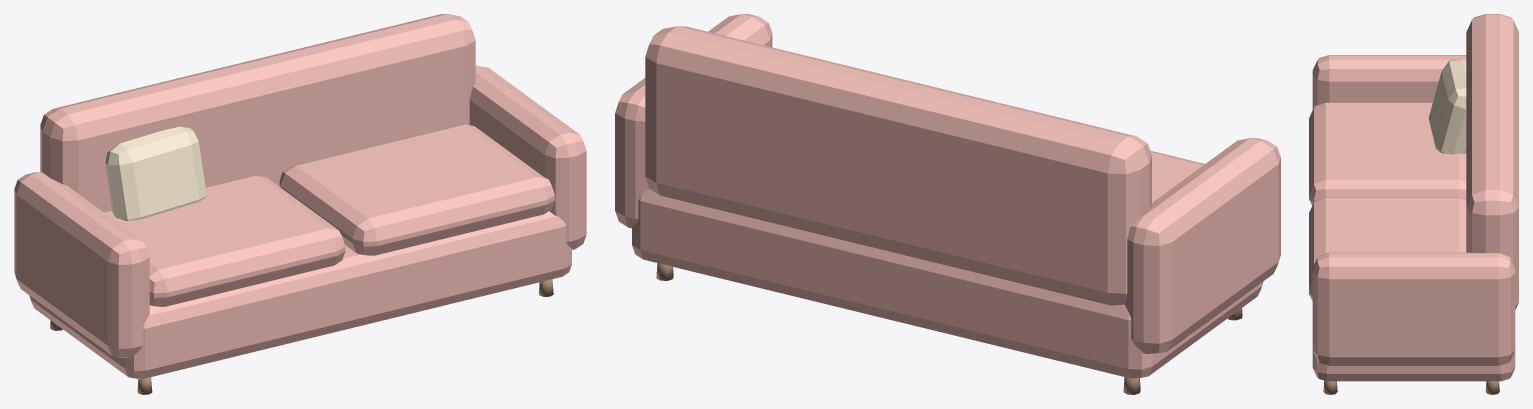
The model's file is sofa.glb.
3 views of the same model, side by side, from view 1: azimuth 30°, elevation 25°; view 2: azimuth 150°, elevation 25°; view 3: azimuth 270°, elevation 25° (orthographic). The views are drawn at different scales.
Parts seen in each view (by area): view 1: sofa; view 2: sofa; view 3: sofa.
Boxes of the visible parts, x1,y1,x2,y2 form: sofa: (14, 14, 586, 394); sofa: (615, 14, 1280, 394); sofa: (1309, 14, 1518, 394).
Bounding box in the file's own units: 2.14 × 0.92 × 0.88.
